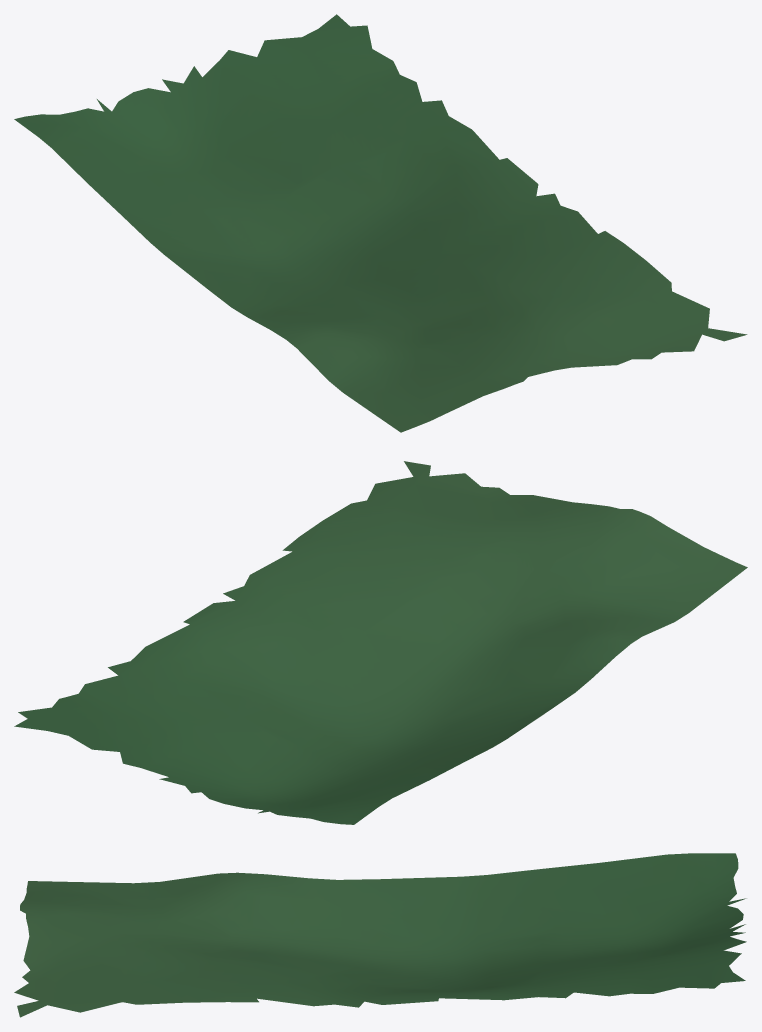
Rendered from payo_land_x4_y8_lod1.glb.
3 views of the same model, one above another, from view 1: azimuth 30°, elevation 25°; view 2: azimuth 150°, elevation 25°; view 3: azimuth 270°, elevation 25° (orthographic). The views are drawn at different scales.
Visible parts, largest first — view 1: payo_land_x4_y8; view 2: payo_land_x4_y8; view 3: payo_land_x4_y8.
Boxes of the visible parts, x1=… form: payo_land_x4_y8: x1=14, y1=14, x2=747, y2=432; payo_land_x4_y8: x1=14, y1=461, x2=747, y2=824; payo_land_x4_y8: x1=14, y1=853, x2=746, y2=1017.
Size of the model in its own units: 130 by 29.23 by 264.
